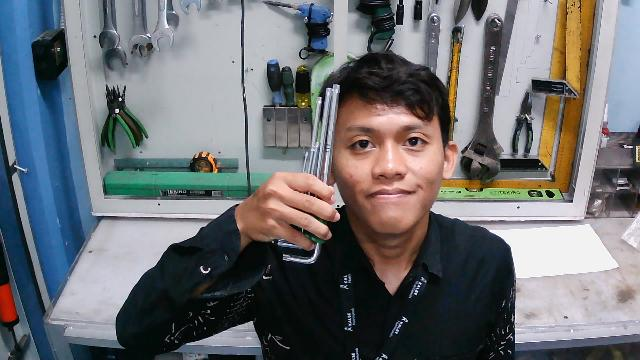kunci_l_bintang: (275, 81, 343, 268)
